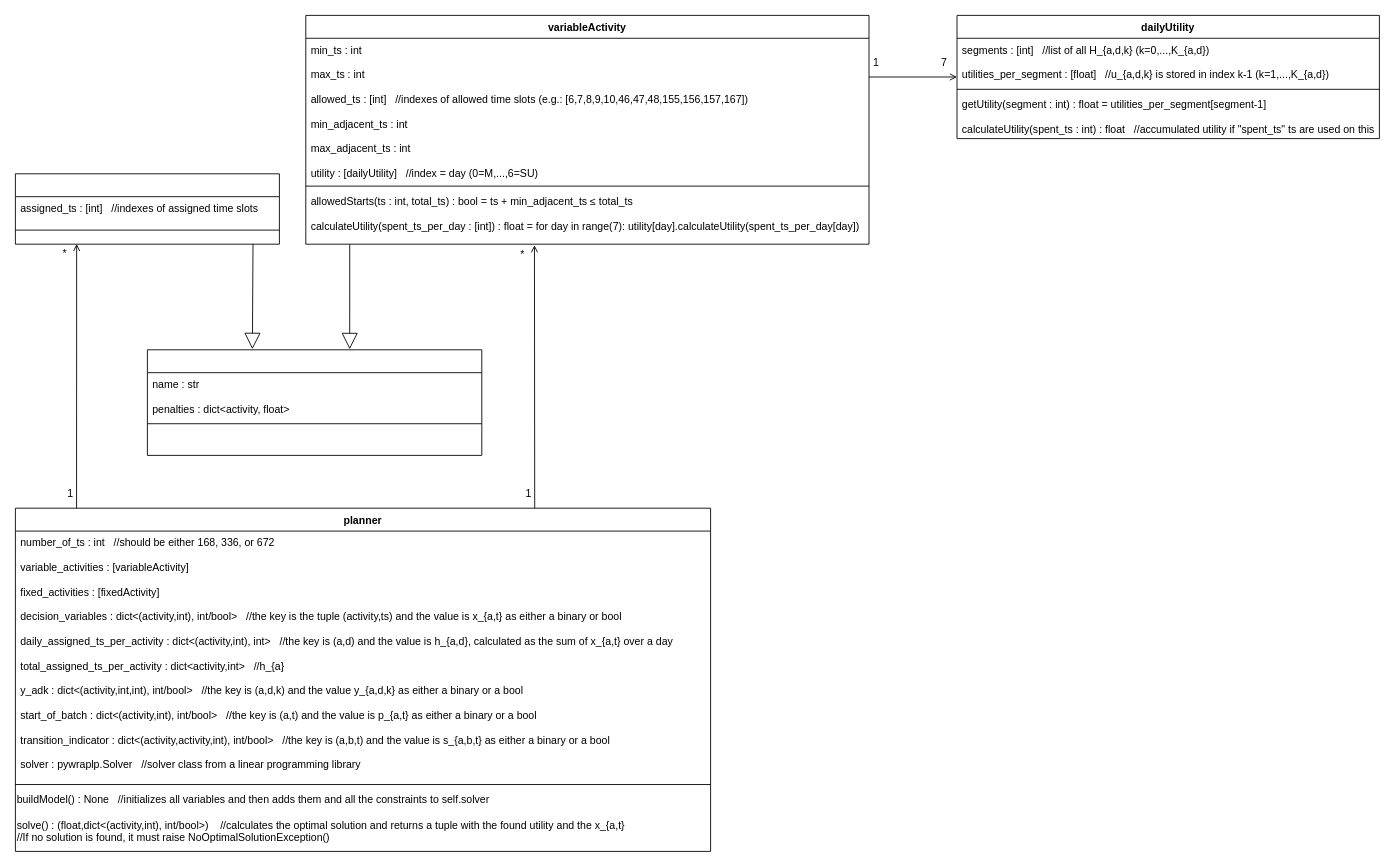
The diagram is 1395 pixels wide and 867 high, and some of its shapes have lost their labels. The box of each missing label's shape, as (x1, y1, x2, y2) in pixels:
activity: (147, 349, 482, 455)
fixedActivity: (15, 173, 279, 244)
